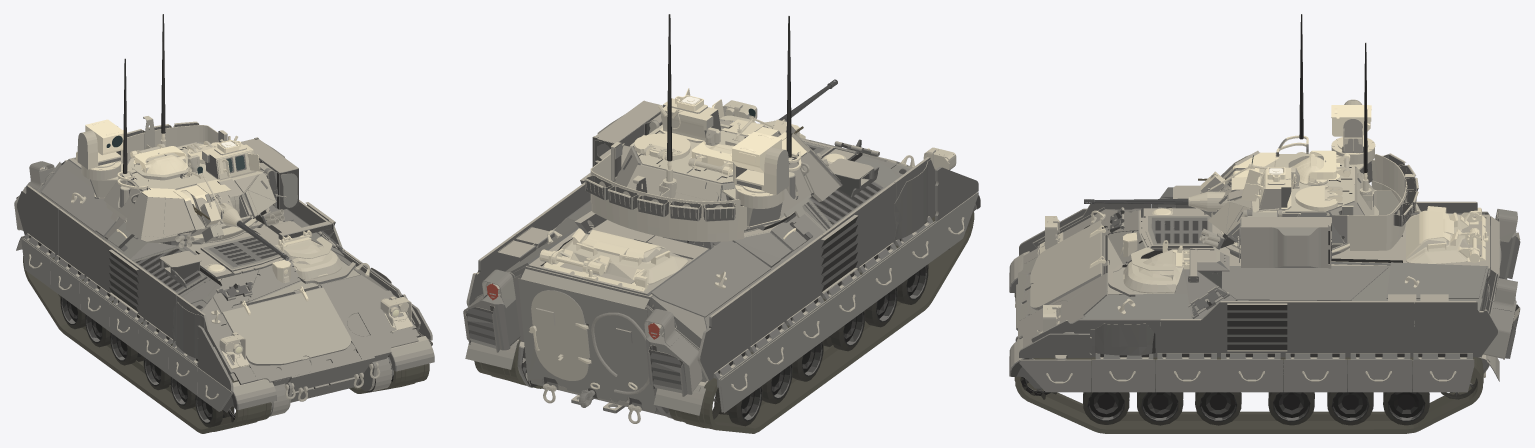
Rendered from vehicle.glb.
3 renders of one model, left to right at view 1: azimuth 30°, elevation 25°; view 2: azimuth 150°, elevation 25°; view 3: azimuth 270°, elevation 25°, orthographic. The views are drawn at different scales.
Parts seen in each view (by area): view 1: WT_@root, WT_bone_turret, WT_hatch_06, WT_track_r, WT_hatch_01, WT_hatch_02, WT_ex_decor_r_05, WT_roll_05, WT_ex_decor_l_04, WT_ex_armor_03, WT_ex_armor_r_03, WT_ex_armor_r_06 (+21 smaller); view 2: WT_@root, WT_bone_turret, WT_rear_ramp, WT_track_r, WT_hatch_04, WT_hatch_05, WT_ex_decor_r_04, WT_ex_decor_l_09, WT_roll_05, WT_ex_armor_03, WT_ex_armor_r_06, WT_ex_armor_r_04 (+21 smaller); view 3: WT_@root, WT_bone_turret, WT_track_l, WT_roll_05, WT_hatch_06, WT_hatch_05, WT_hatch_01, WT_ex_armor_l_03, WT_ex_armor_l_04, WT_ex_armor_l_05, WT_ex_armor_l_06, WT_ex_armor_l_02 (+21 smaller).
Boxes of the visible parts, x1=… form: WT_@root: x1=17, y1=157, x2=432, y2=416; WT_bone_turret: x1=81, y1=116, x2=276, y2=242; WT_hatch_06: x1=222, y1=286, x2=351, y2=365; WT_track_r: x1=23, y1=256, x2=271, y2=433; WT_hatch_01: x1=275, y1=230, x2=342, y2=279; WT_hatch_02: x1=130, y1=143, x2=188, y2=174; WT_ex_decor_r_05: x1=222, y1=379, x2=276, y2=412; WT_roll_05: x1=241, y1=137, x2=298, y2=209; WT_ex_decor_l_04: x1=388, y1=336, x2=434, y2=371; WT_ex_armor_03: x1=77, y1=126, x2=122, y2=169; WT_ex_armor_r_03: x1=138, y1=324, x2=169, y2=374; WT_ex_armor_r_06: x1=50, y1=259, x2=81, y2=309; WT_@root: x1=466, y1=121, x2=978, y2=418; WT_bone_turret: x1=584, y1=98, x2=842, y2=241; WT_rear_ramp: x1=518, y1=268, x2=657, y2=413; WT_track_r: x1=669, y1=212, x2=974, y2=433; WT_hatch_04: x1=529, y1=290, x2=591, y2=380; WT_hatch_05: x1=551, y1=228, x2=687, y2=284; WT_ex_decor_r_04: x1=644, y1=305, x2=707, y2=396; WT_ex_decor_l_09: x1=463, y1=269, x2=523, y2=352; WT_roll_05: x1=592, y1=100, x2=662, y2=166; WT_ex_armor_03: x1=733, y1=141, x2=788, y2=195; WT_ex_armor_r_06: x1=754, y1=327, x2=792, y2=389; WT_ex_armor_r_04: x1=826, y1=274, x2=865, y2=336; WT_@root: x1=1015, y1=185, x2=1497, y2=377; WT_bone_turret: x1=1208, y1=135, x2=1418, y2=255; WT_track_l: x1=1014, y1=357, x2=1483, y2=433; WT_roll_05: x1=1241, y1=217, x2=1331, y2=268; WT_hatch_06: x1=1030, y1=220, x2=1105, y2=310; WT_hatch_05: x1=1406, y1=206, x2=1479, y2=263; WT_hatch_01: x1=1123, y1=240, x2=1184, y2=293; WT_ex_armor_l_03: x1=1155, y1=359, x2=1219, y2=392; WT_ex_armor_l_04: x1=1219, y1=359, x2=1283, y2=392; WT_ex_armor_l_05: x1=1284, y1=359, x2=1347, y2=392; WT_ex_armor_l_06: x1=1348, y1=359, x2=1411, y2=392; WT_ex_armor_l_02: x1=1092, y1=359, x2=1155, y2=392.
Size of the model in its own units: 3.43 by 4.77 by 6.58.
Materials: 38 (2 with a texture image).
